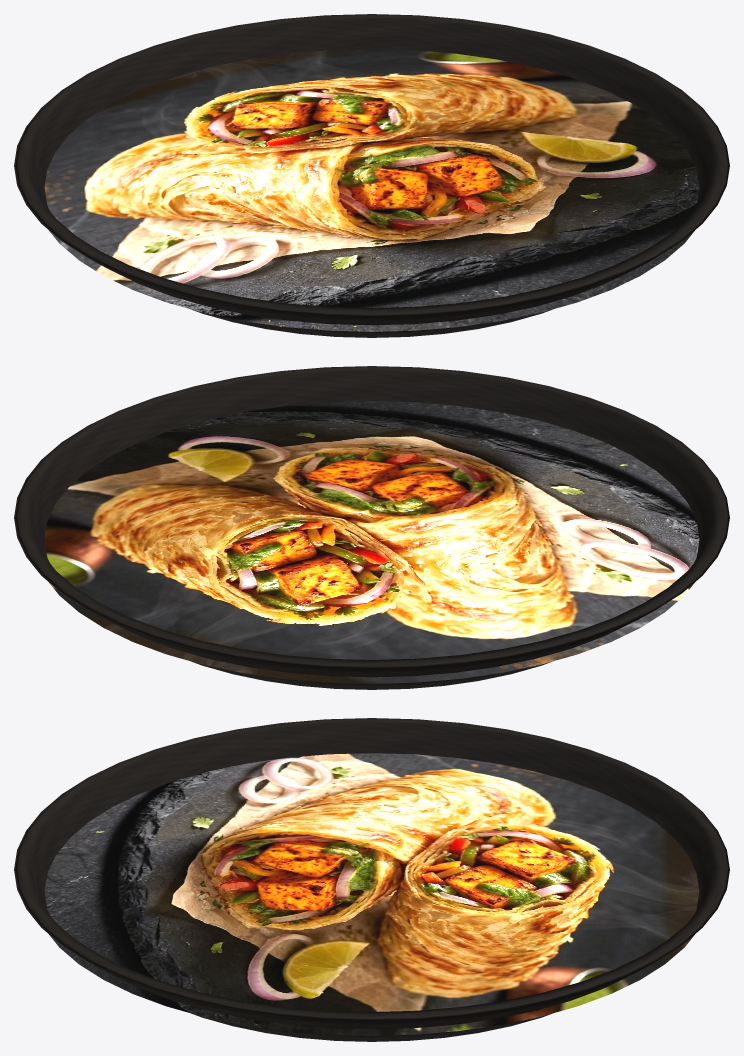
File: paneer-tikka-roll.glb
The picture shows the model from 3 angles, top to bottom: view 1: azimuth 30°, elevation 25°; view 2: azimuth 150°, elevation 25°; view 3: azimuth 270°, elevation 25°; orthographic projection.
Visible parts, largest first — view 1: FoodMound, StonewareVessel; view 2: FoodMound, StonewareVessel; view 3: FoodMound, StonewareVessel.
Boxes of the visible parts, x1,y1,x2,y2 form: FoodMound: (44,49,699,331); StonewareVessel: (14,14,729,337); FoodMound: (44,401,699,683); StonewareVessel: (14,366,729,689); FoodMound: (44,753,699,1035); StonewareVessel: (14,718,729,1041).
Size of the model in its own units: 0.23 by 0.0225 by 0.23.
2 materials, 2 textured.
